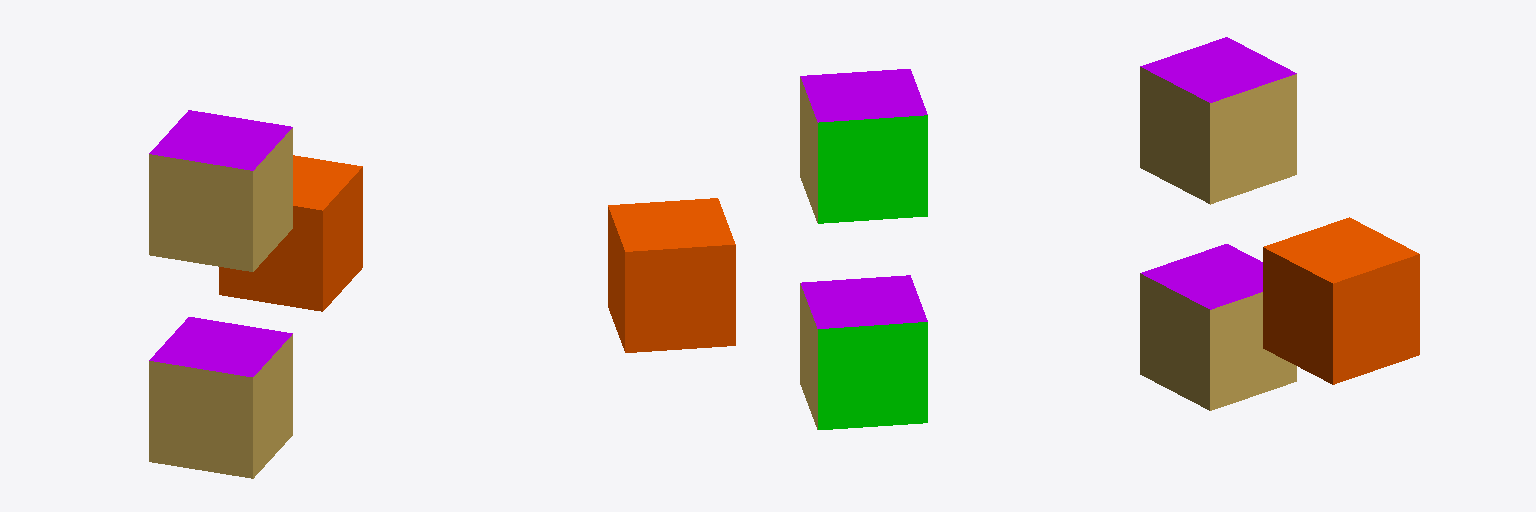
The model's file is Blocks.obj.
The picture shows the model from 3 angles: view 1: azimuth 30°, elevation 25°; view 2: azimuth 150°, elevation 25°; view 3: azimuth 270°, elevation 25°; orthographic projection.
Parts seen in each view (by area): view 1: Back, Top, Left; view 2: Right, Top, Front; view 3: Front, Left, Top.
Part boxes in pixels (left/top/right/bottom): Back: left=149, top=154, right=322, bottom=478; Top: left=149, top=110, right=362, bottom=376; Left: left=253, top=128, right=362, bottom=478; Right: left=625, top=115, right=927, bottom=429; Top: left=608, top=69, right=927, bottom=328; Front: left=608, top=77, right=817, bottom=429; Front: left=1210, top=74, right=1419, bottom=410; Left: left=1140, top=67, right=1332, bottom=410; Top: left=1140, top=37, right=1418, bottom=309.
Bounding box in the file's own units: 2.76 × 3.04 × 2.5.